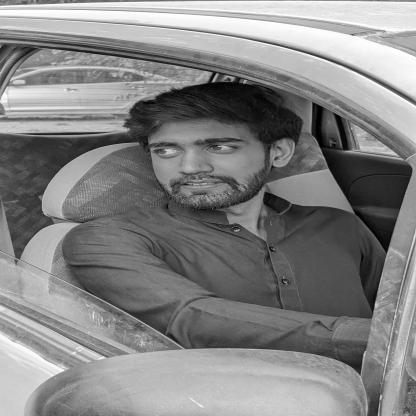no-seatbelt: (107, 82, 343, 318)
